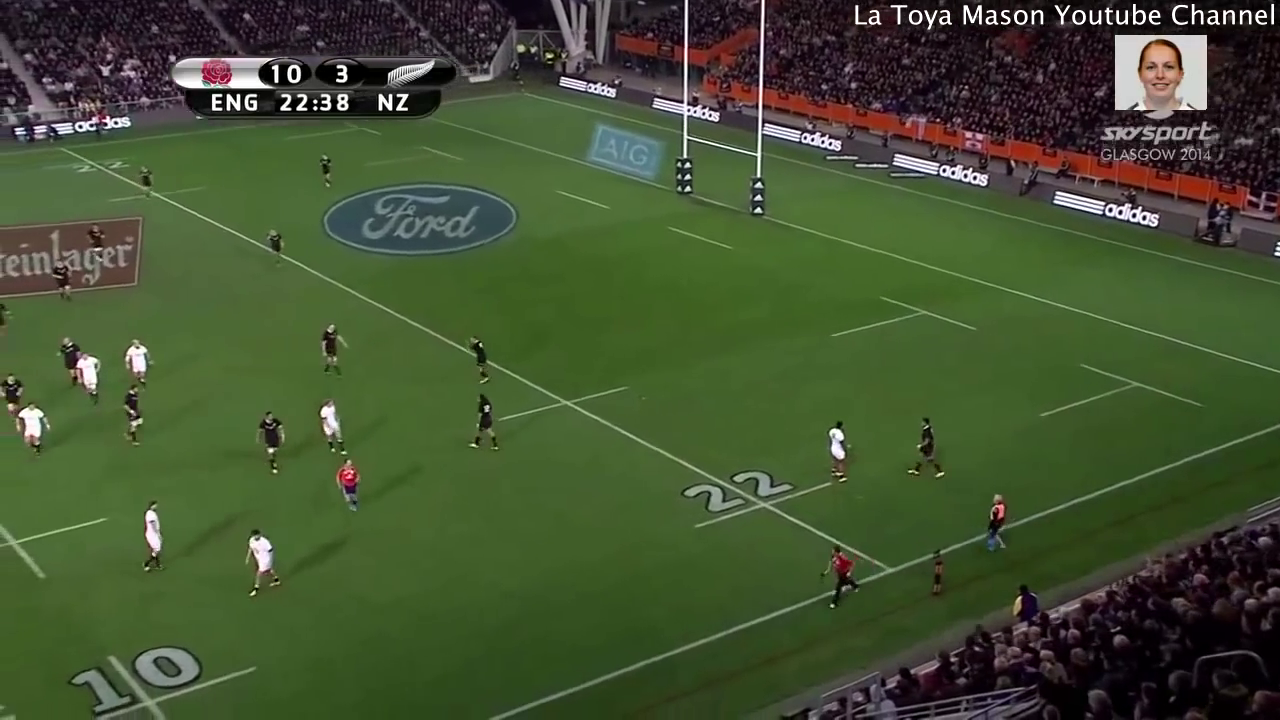10_metre: (55, 638, 265, 720), (1, 503, 119, 591)
player: (899, 410, 953, 487), (235, 525, 285, 607), (132, 494, 171, 579), (461, 386, 506, 453), (117, 335, 163, 400), (111, 381, 153, 449), (11, 399, 53, 466), (255, 407, 290, 482), (818, 416, 853, 489), (73, 347, 109, 416), (313, 395, 349, 463), (315, 317, 351, 383), (55, 333, 88, 399), (335, 455, 370, 516), (47, 251, 81, 313), (464, 328, 497, 388), (1, 360, 26, 428), (78, 219, 113, 267), (263, 222, 289, 271), (313, 148, 336, 193), (133, 161, 157, 204), (1, 300, 15, 338)
post: (670, 1, 777, 228)
